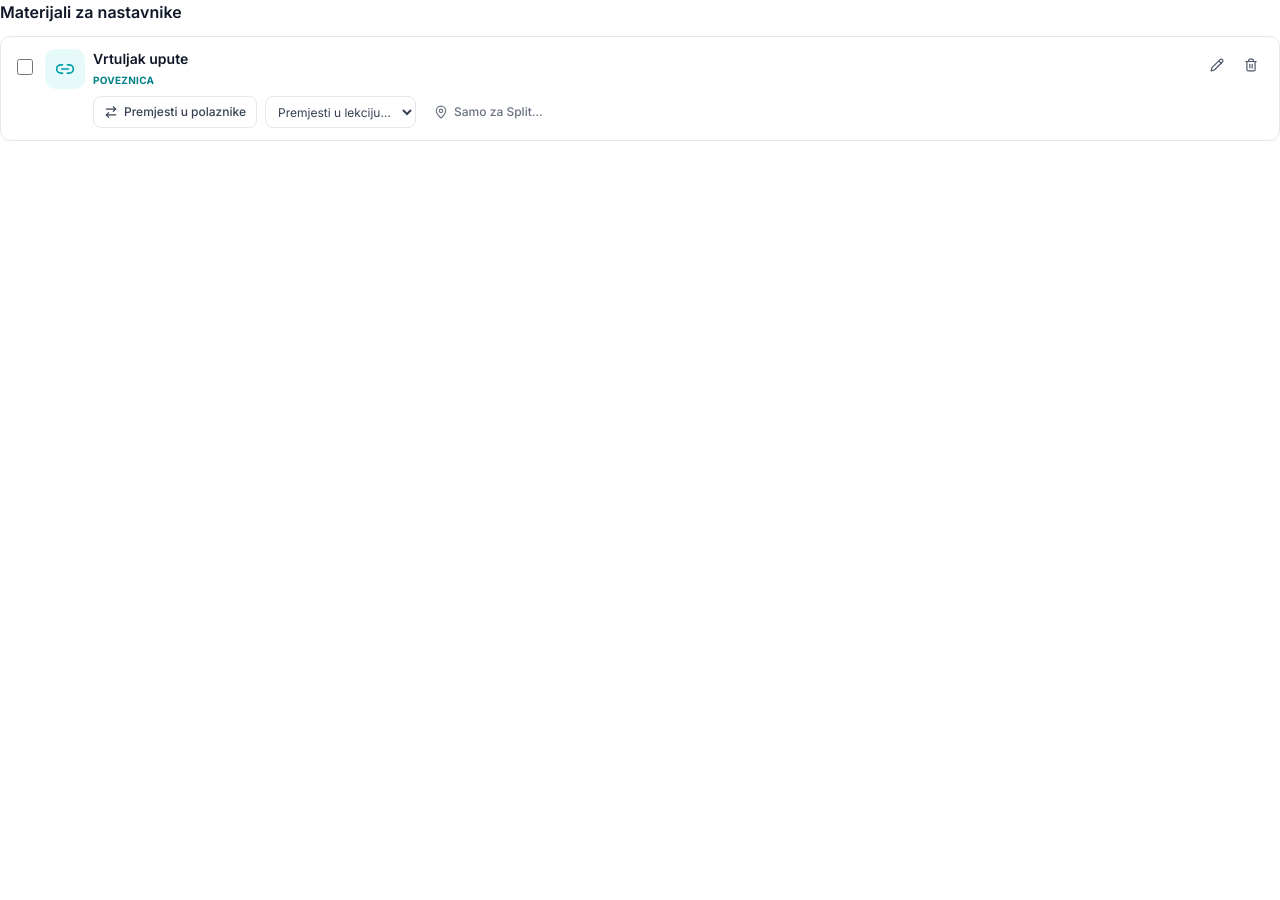
Scenario: LessonMaterialSection — city › offers "Samo za Split…" on a shared row and opens the dialog
The width and height of the screenshot is (1280, 900).
Click the button "Samo za Split…": (488, 112) [424,96,553,128]
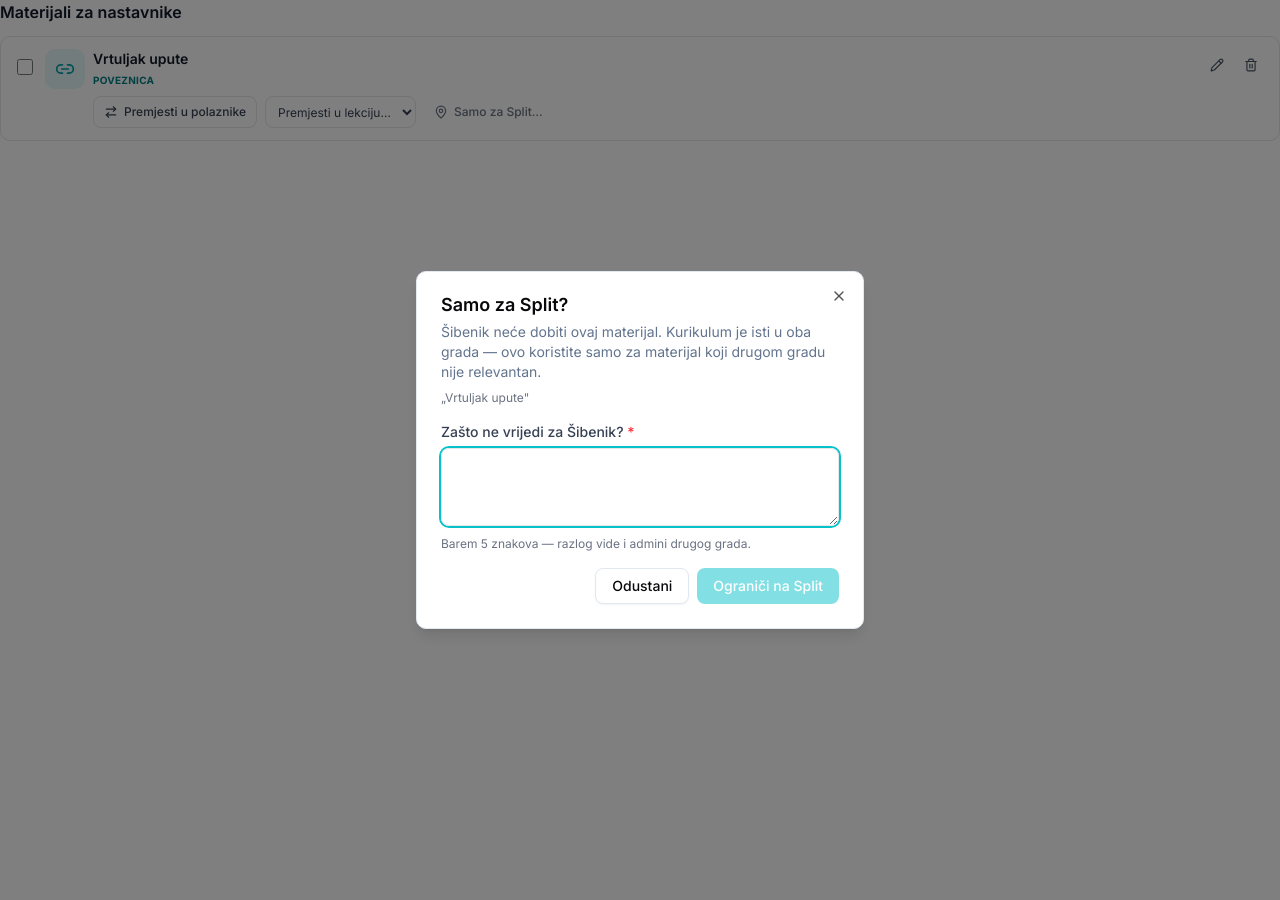
Expected: the heading "Samo za Split?" is shown, [441,294,568,315]
